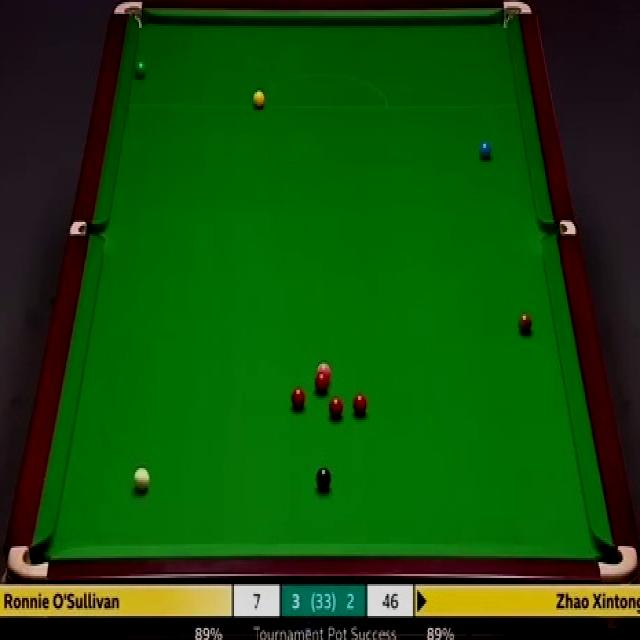pocket: (5, 540, 51, 582), (594, 542, 637, 580), (500, 0, 532, 32), (112, 0, 147, 29), (540, 218, 577, 237), (69, 218, 104, 238)
